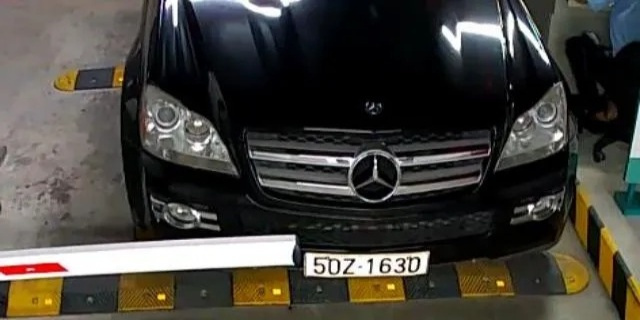bien_so: (306, 251, 424, 275)
